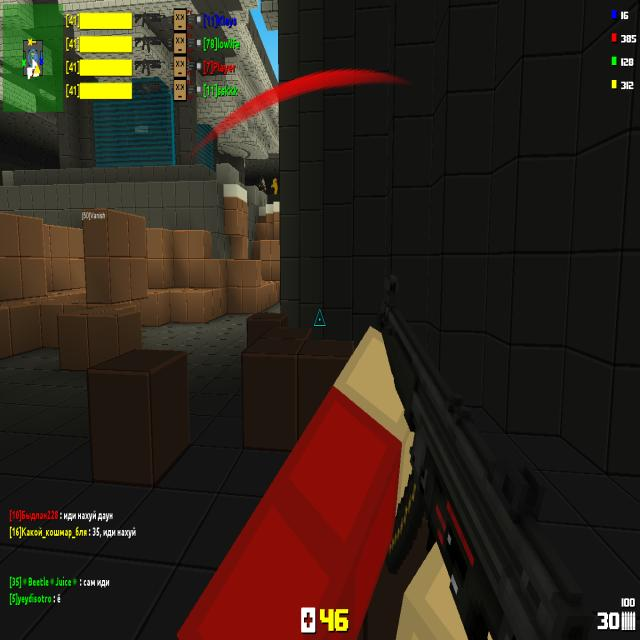enemy: (258, 176, 266, 195), (271, 178, 278, 194)
